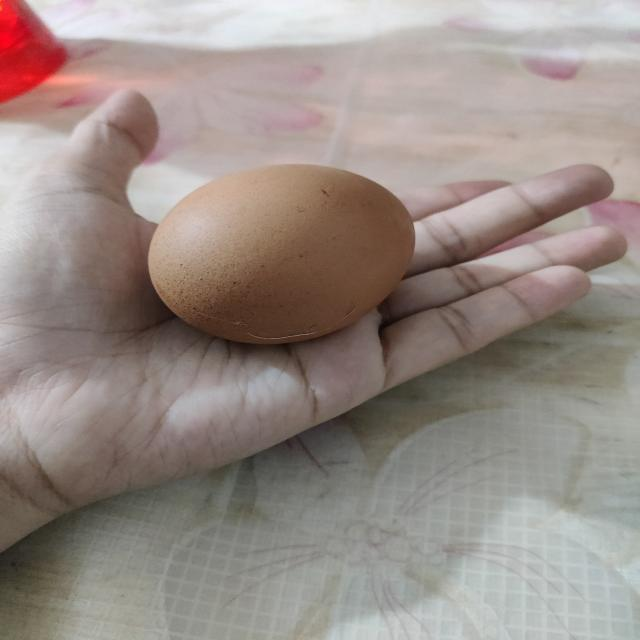egg: (138, 162, 424, 346)
